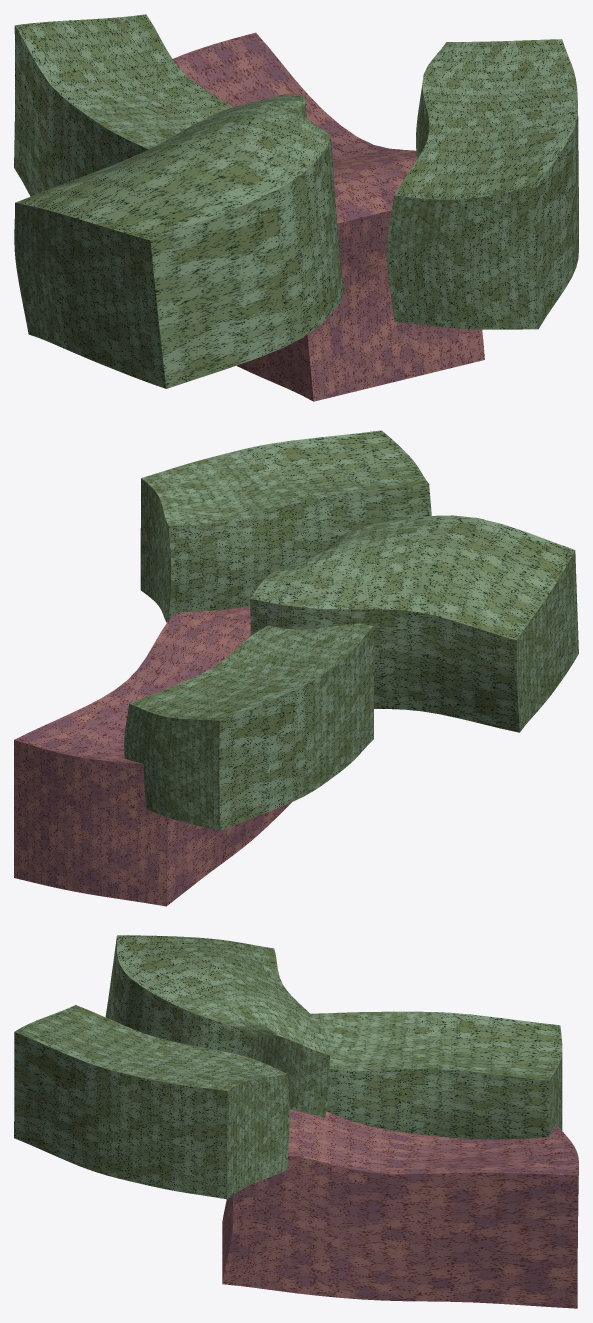
File: channel-pain-pool.glb
The picture shows the model from 3 angles, top to bottom: view 1: azimuth 30°, elevation 25°; view 2: azimuth 150°, elevation 25°; view 3: azimuth 270°, elevation 25°; orthographic projection. The views are drawn at different scales.
Parts seen in each view (by area): view 1: testlevel-col; view 2: testlevel-col; view 3: testlevel-col.
Boxes of the visible parts, bbox=[...] form: testlevel-col: bbox=[14, 14, 578, 401]; testlevel-col: bbox=[14, 430, 578, 906]; testlevel-col: bbox=[14, 935, 578, 1308].
Bounding box in the file's own units: 73.99 × 44.78 × 93.87.
2 materials, 2 textured.
